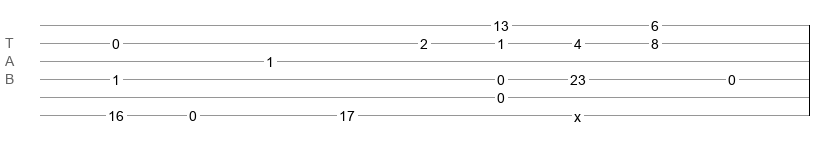0: (112, 36, 120, 46), (189, 108, 197, 118), (497, 72, 505, 82), (497, 90, 505, 100), (728, 72, 736, 82)
1: (112, 72, 120, 82), (266, 54, 274, 64), (497, 36, 505, 46)
13: (493, 18, 509, 28)
16: (108, 108, 124, 118)
17: (339, 108, 355, 118)
2: (420, 36, 428, 46)
23: (570, 72, 586, 82)
4: (574, 36, 582, 46)
6: (651, 18, 659, 28)
8: (651, 36, 659, 46)
x: (574, 109, 581, 117)
